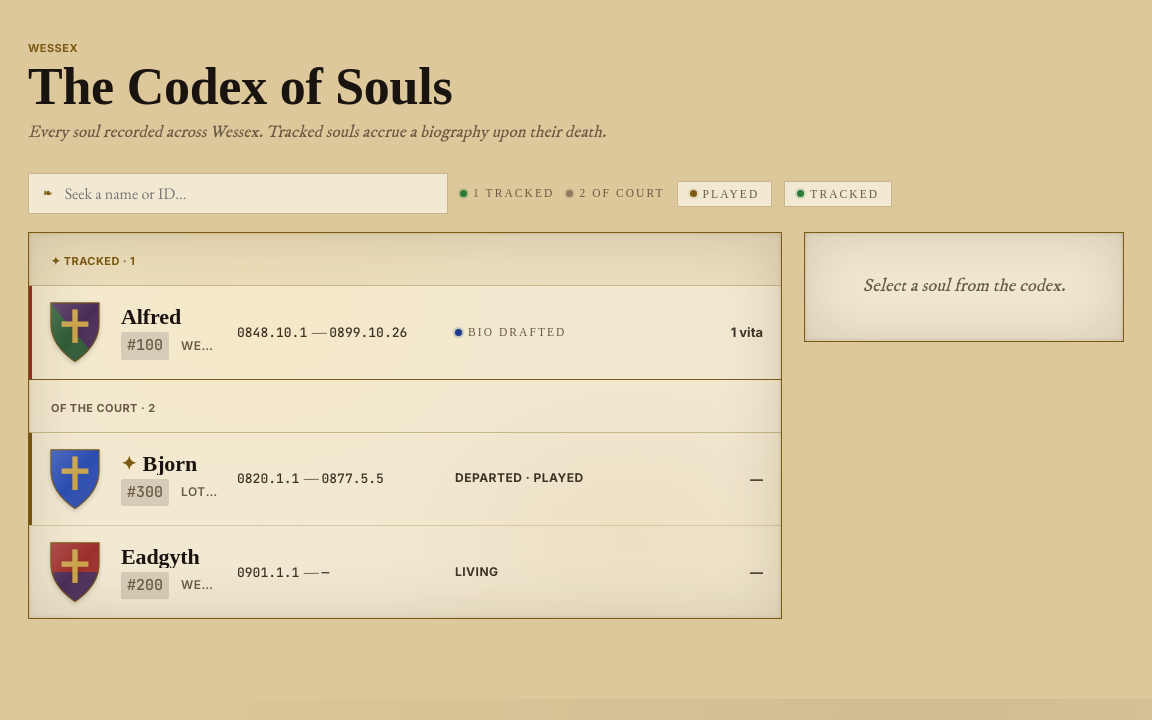
Scenario: CodexPage › the Tracked filter collapses the page to the Tracked table
Expected: the text "Bjorn" is shown, left=143, top=451, right=197, bottom=476
Click the button "Tracked" at [838, 194], box left=784, top=181, right=892, bottom=207
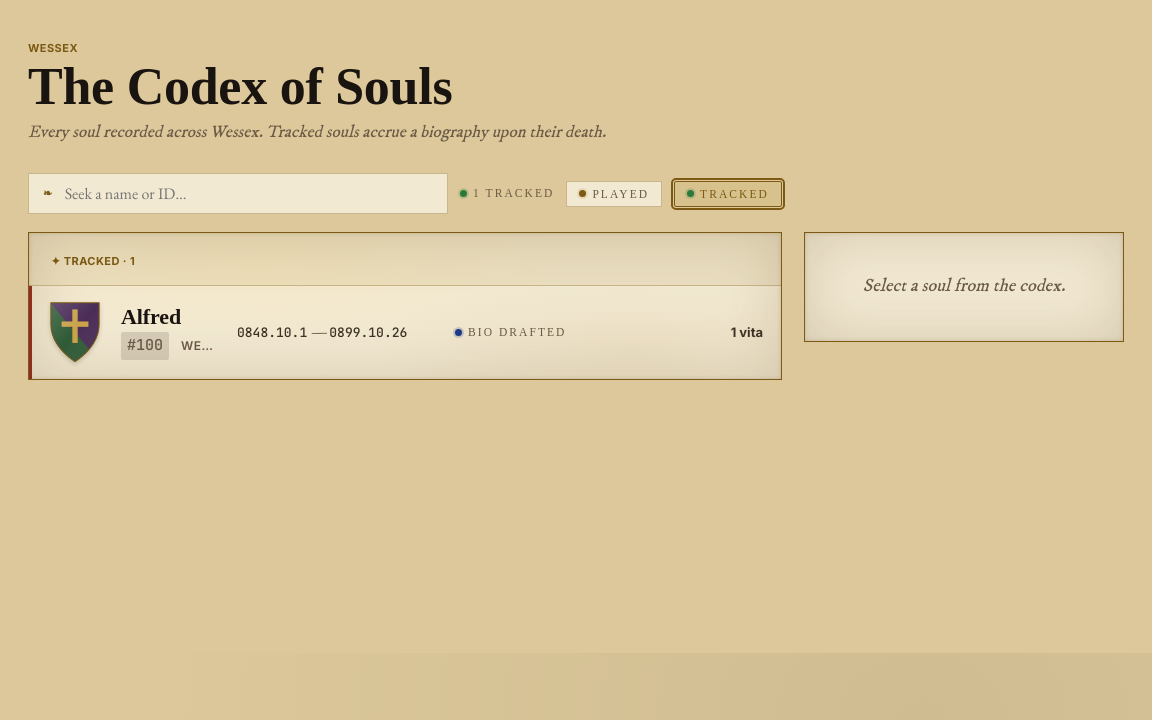
Expected: the text "Alfred" is shown, left=121, top=304, right=181, bottom=329
Expected: the text "Of the court" is gone
Expected: the option "Bjorn" is gone
